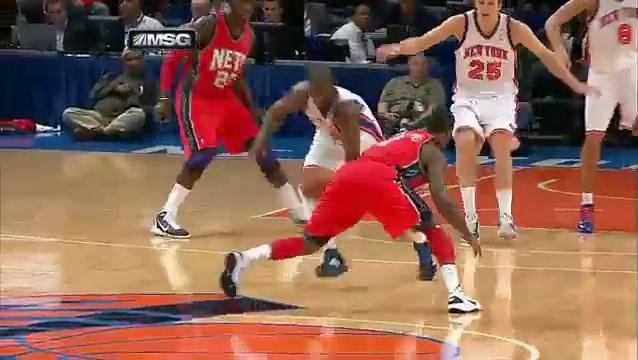Ball: (302, 167, 336, 200)
Person: (215, 107, 483, 320), (404, 0, 567, 242), (148, 0, 288, 241), (269, 62, 387, 279), (545, 0, 638, 237)
